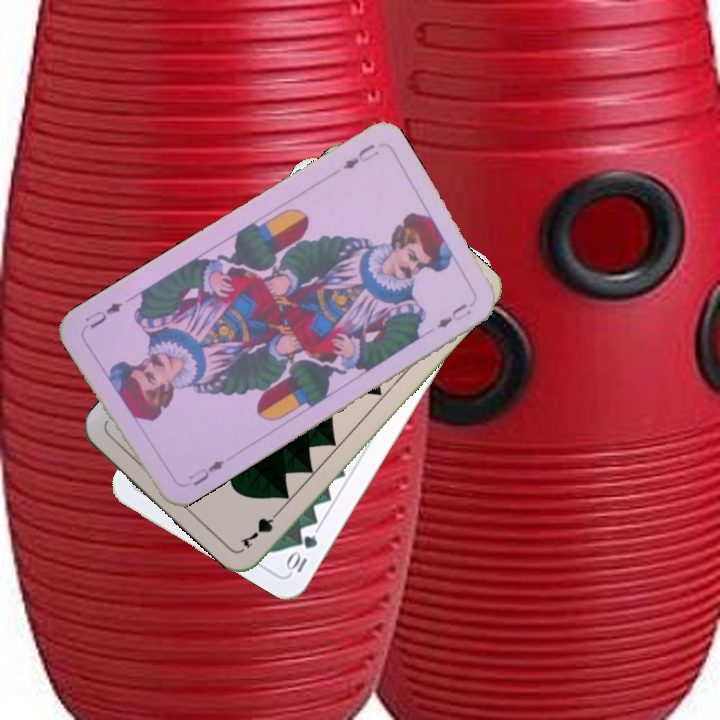EU: (184, 456, 228, 489), (338, 140, 381, 172)
G10: (283, 531, 321, 577)
G7: (237, 504, 285, 551)
